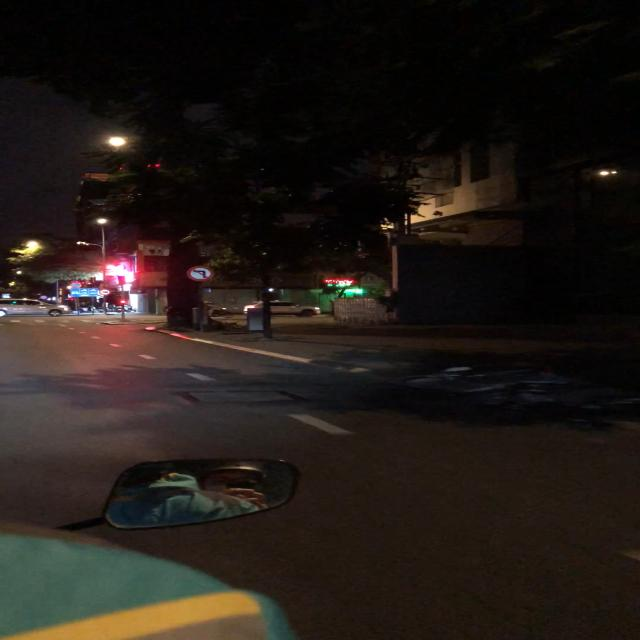Bien bao cam re trai: (182, 264, 218, 282)
